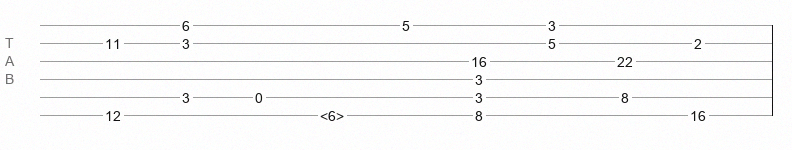0: (255, 90, 263, 100)
11: (105, 36, 121, 46)
12: (105, 108, 121, 118)
16: (471, 54, 487, 64), (690, 108, 706, 118)
2: (694, 36, 702, 46)
22: (617, 54, 633, 64)
3: (182, 36, 190, 46), (182, 90, 190, 100), (475, 72, 483, 82), (475, 90, 483, 100), (548, 18, 556, 28)
5: (402, 18, 410, 28), (548, 36, 556, 46)
6: (182, 18, 190, 28)
8: (475, 108, 483, 118), (621, 90, 629, 100)
harmonic: (320, 108, 344, 118)
